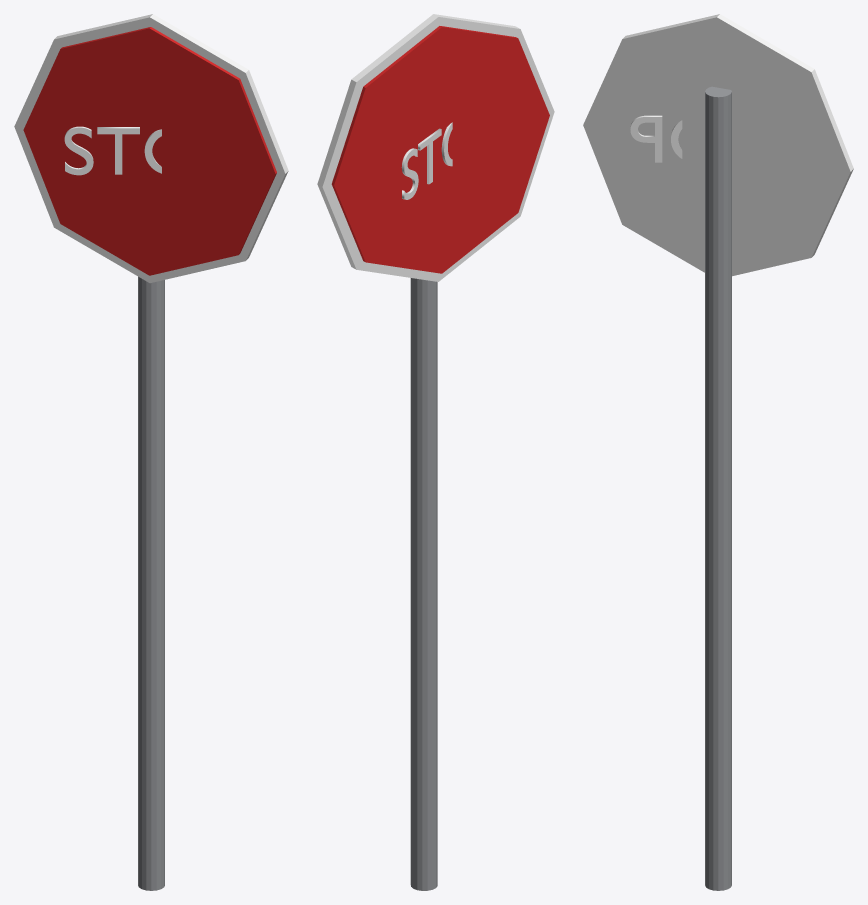
The model's file is stop_sign.glb.
3 renders of one model, left to right at view 1: azimuth 90°, elevation 25°; view 2: azimuth 150°, elevation 25°; view 3: azimuth 270°, elevation 25°, orthographic.
Parts seen in each view (by area): view 1: Stop_Face, Stop_Post, Stop_Border, Stop_Text; view 2: Stop_Face, Stop_Post, Stop_Border, Stop_Text; view 3: Stop_Border, Stop_Post, Stop_Text.
Part boxes in pixels (x1,y1,x2,y2): Stop_Face: [23, 27, 276, 275]; Stop_Post: [138, 276, 164, 890]; Stop_Border: [14, 14, 288, 283]; Stop_Text: [64, 126, 161, 175]; Stop_Face: [331, 26, 549, 273]; Stop_Post: [410, 278, 437, 890]; Stop_Border: [317, 14, 554, 281]; Stop_Text: [401, 122, 452, 199]; Stop_Border: [583, 14, 853, 276]; Stop_Post: [705, 86, 731, 890]; Stop_Text: [630, 115, 682, 162].
Bounding box in the file's own units: 0.353 × 2.83 × 0.8041.
